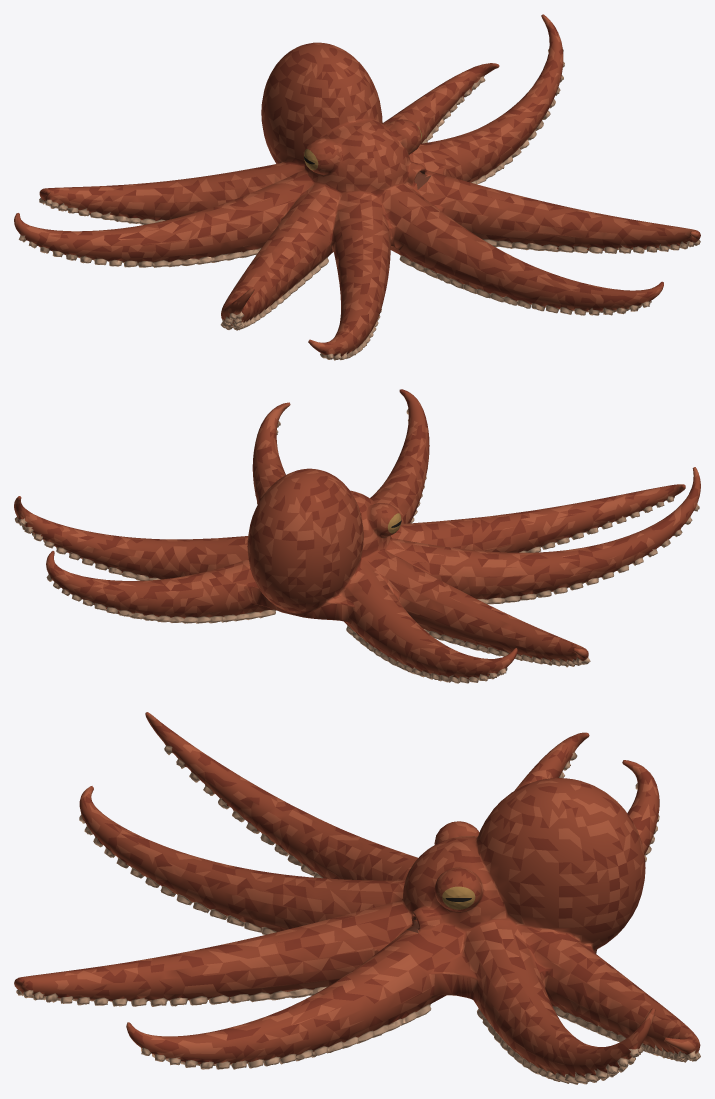
The model's file is NEW406_giant_octopus_LOD0.glb.
The picture shows the model from 3 angles, top to bottom: view 1: azimuth 30°, elevation 25°; view 2: azimuth 150°, elevation 25°; view 3: azimuth 270°, elevation 25°; orthographic projection. The views are drawn at different scales.
Visible parts, largest first — view 1: NEW406_Whole_Octopus_LOD0; view 2: NEW406_Whole_Octopus_LOD0; view 3: NEW406_Whole_Octopus_LOD0.
Part boxes in pixels (x1,y1,x2,y2): NEW406_Whole_Octopus_LOD0: (14, 14, 700, 360); NEW406_Whole_Octopus_LOD0: (14, 389, 700, 683); NEW406_Whole_Octopus_LOD0: (14, 712, 700, 1084).
Size of the model in its own units: 2.09 by 0.5606 by 1.78.
